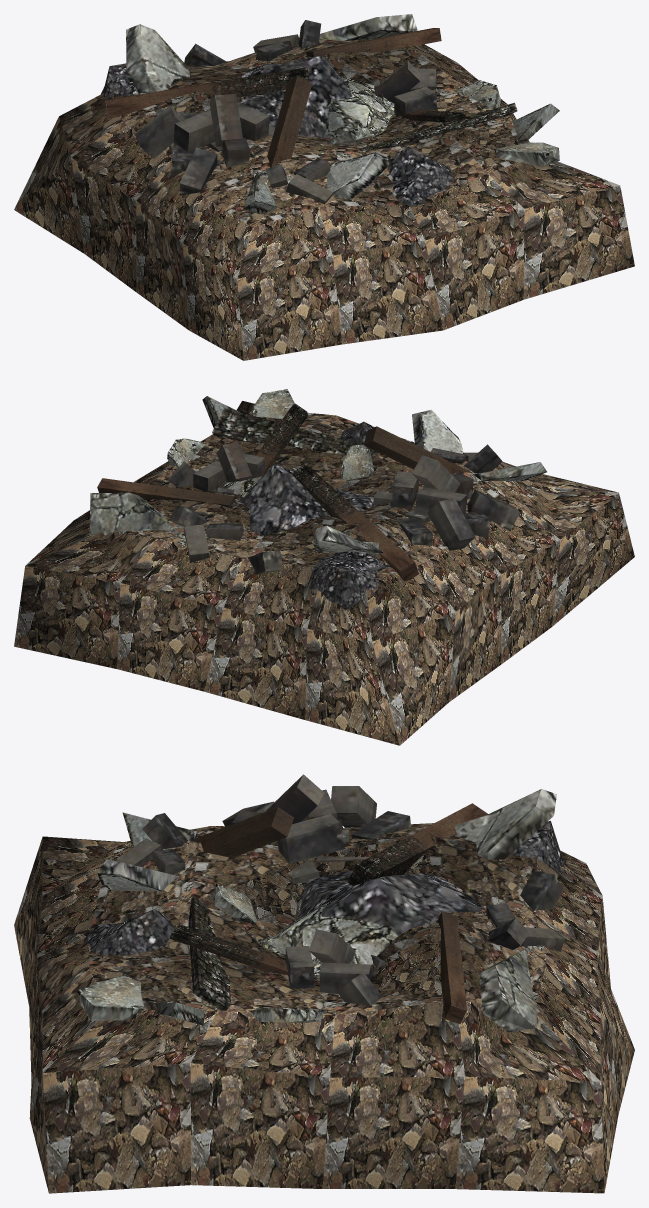
File: rubble_stone_2x2.glb
3 renders of one model, top to bottom at view 1: azimuth 30°, elevation 25°; view 2: azimuth 150°, elevation 25°; view 3: azimuth 270°, elevation 25°, orthographic. The views are drawn at different scales.
Parts seen in each view (by area): view 1: rubble_stone_2x2_part0; view 2: rubble_stone_2x2_part0; view 3: rubble_stone_2x2_part0.
Part boxes in pixels (x1,y1,x2,y2): rubble_stone_2x2_part0: [14, 14, 634, 360]; rubble_stone_2x2_part0: [14, 389, 634, 745]; rubble_stone_2x2_part0: [14, 774, 634, 1193].
Size of the model in its own units: 1.76 by 0.813 by 1.84.
Materials: 1 (1 with a texture image).
